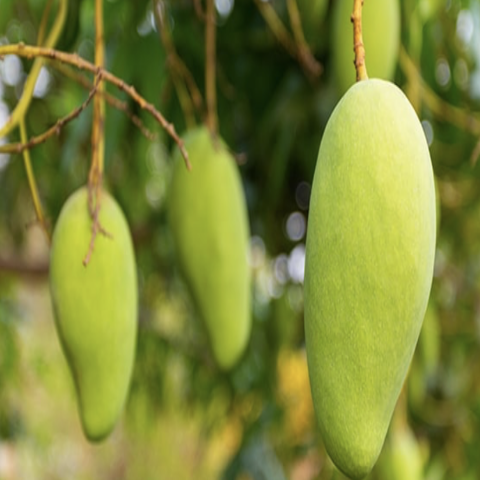mango: (282, 66, 459, 479), (155, 118, 263, 387), (39, 177, 141, 449)
